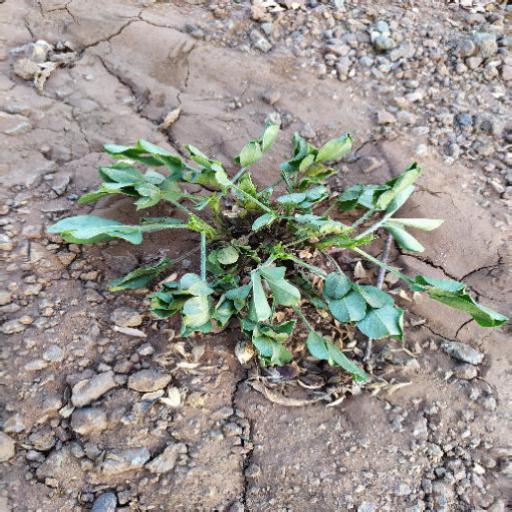weed: (63, 138, 472, 392)
